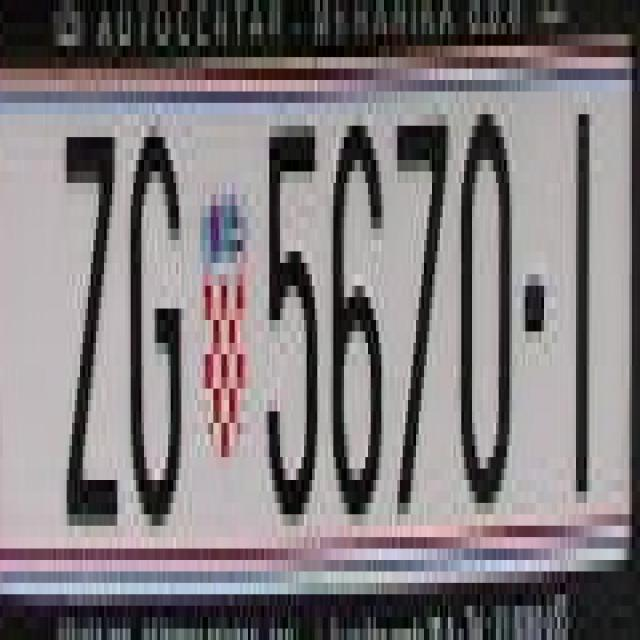0: (456, 80, 517, 480)
5: (264, 125, 317, 526)
6: (331, 91, 386, 492)
7: (397, 103, 448, 503)
G: (128, 103, 181, 480)
Z: (64, 125, 125, 526)
